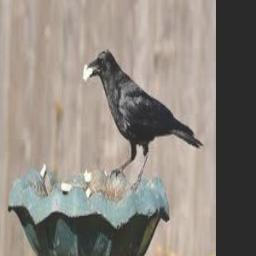Crow: (84, 48, 204, 189)
